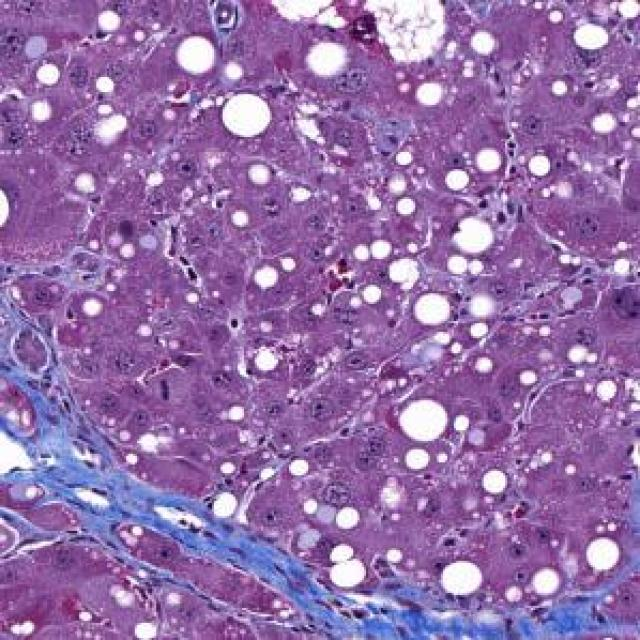fibrosis: (0, 308, 131, 548), (112, 514, 326, 604), (312, 582, 604, 640)
